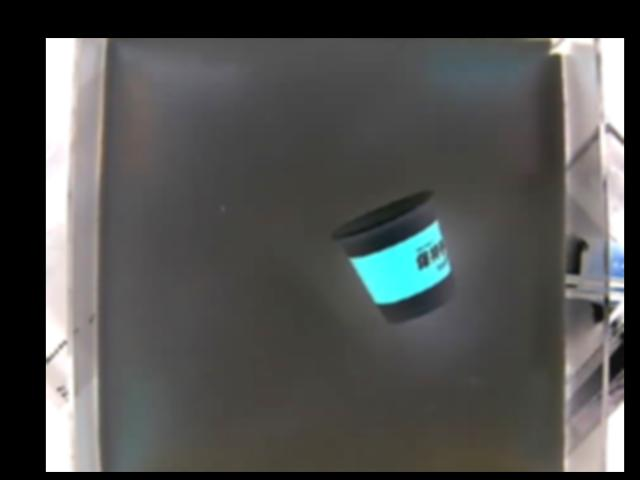Cup: (336, 187, 457, 327)
